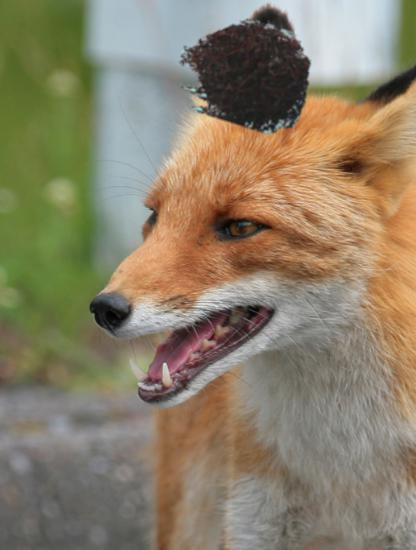Rambutan: (178, 1, 315, 138)
